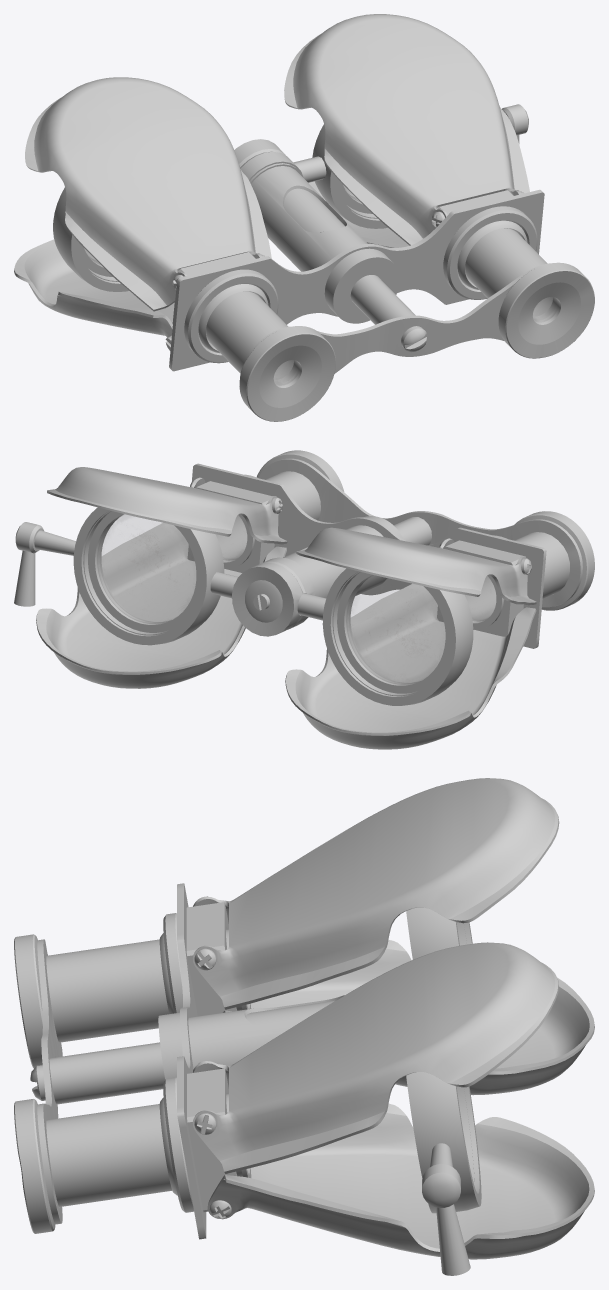
3 views of the same model, one above another, from view 1: azimuth 30°, elevation 25°; view 2: azimuth 150°, elevation 25°; view 3: azimuth 270°, elevation 25° (orthographic). The views are drawn at different scales.
Parts seen in each view (by area): view 1: Claps_lp, EyeSupport_lp, InnerConnectingPlate_lp, OuterConnectingPlate_lp, MiddleCylinder_lp, MainCylinder_lp.001, MainCylinder_lp, BigLensOuterRing_lp, MIddleRing_lp, OuterRing01_lp.001, OuterRing01_lp, CenterCylinderBack_lp (+9 smaller); view 2: Claps_lp, BigLensOuterRing_lp, BigLens_lp.001, BigLens_lp, InnerConnectingPlate_lp, OuterConnectingPlate_lp, MiddleFront_lp, BigLensInnerRing_lp.001, BigLensInnerRing_lp, EyeSupport_lp, MainCylinder_lp.001, StrickingOutThing_lp (+10 smaller); view 3: Claps_lp, MainCylinder_lp, MainCylinder_lp.001, BigLensOuterRing_lp, EyeSupport_lp, CenterCylinderBack_lp, MiddleCylinder_lp, InnerConnectingPlate_lp, StrickingOutThing_lp, CubicLensHolder_lp, OuterConnectingPlate_lp, CubicLensHolder_lp.002 (+4 smaller).
Part boxes in pixels (x1=…): Claps_lp: x1=14, y1=14, x2=529, y2=337; EyeSupport_lp: x1=239, y1=262, x2=594, y2=421; InnerConnectingPlate_lp: x1=169, y1=189, x2=544, y2=371; OuterConnectingPlate_lp: x1=240, y1=263, x2=550, y2=377; MiddleCylinder_lp: x1=251, y1=166, x2=367, y2=271; MainCylinder_lp.001: x1=206, y1=291, x2=293, y2=379; MainCylinder_lp: x1=465, y1=228, x2=552, y2=316; BigLensOuterRing_lp: x1=53, y1=124, x2=387, y2=291; MIddleRing_lp: x1=324, y1=248, x2=399, y2=323; OuterRing01_lp.001: x1=184, y1=269, x2=278, y2=363; OuterRing01_lp: x1=443, y1=206, x2=537, y2=299; CenterCylinderBack_lp: x1=350, y1=275, x2=415, y2=324; Claps_lp: x1=36, y1=467, x2=536, y2=749; BigLensOuterRing_lp: x1=73, y1=507, x2=473, y2=705; BigLens_lp.001: x1=346, y1=575, x2=445, y2=684; BigLens_lp: x1=97, y1=514, x2=195, y2=623; InnerConnectingPlate_lp: x1=192, y1=463, x2=546, y2=648; OuterConnectingPlate_lp: x1=258, y1=458, x2=582, y2=607; MiddleFront_lp: x1=232, y1=557, x2=314, y2=636; BigLensInnerRing_lp.001: x1=337, y1=572, x2=447, y2=693; BigLensInnerRing_lp: x1=88, y1=511, x2=198, y2=632; EyeSupport_lp: x1=257, y1=450, x2=594, y2=610; MainCylinder_lp.001: x1=464, y1=532, x2=569, y2=622; StrickingOutThing_lp: x1=14, y1=522, x2=75, y2=606; Claps_lp: x1=192, y1=778, x2=594, y2=1259; MainCylinder_lp: x1=46, y1=1094, x2=242, y2=1206; MainCylinder_lp.001: x1=46, y1=929, x2=242, y2=1042; BigLensOuterRing_lp: x1=406, y1=907, x2=481, y2=1213; EyeSupport_lp: x1=14, y1=934, x2=55, y2=1233; CenterCylinderBack_lp: x1=49, y1=1042, x2=165, y2=1104; MiddleCylinder_lp: x1=188, y1=995, x2=344, y2=1068; InnerConnectingPlate_lp: x1=177, y1=883, x2=206, y2=1239; StrickingOutThing_lp: x1=422, y1=1143, x2=470, y2=1275; CubicLensHolder_lp: x1=187, y1=1068, x2=237, y2=1211; OuterConnectingPlate_lp: x1=37, y1=939, x2=62, y2=1224; CubicLensHolder_lp.002: x1=186, y1=902, x2=237, y2=1016.
Bounding box in the file's own units: 4.6 × 1.83 × 3.65.
